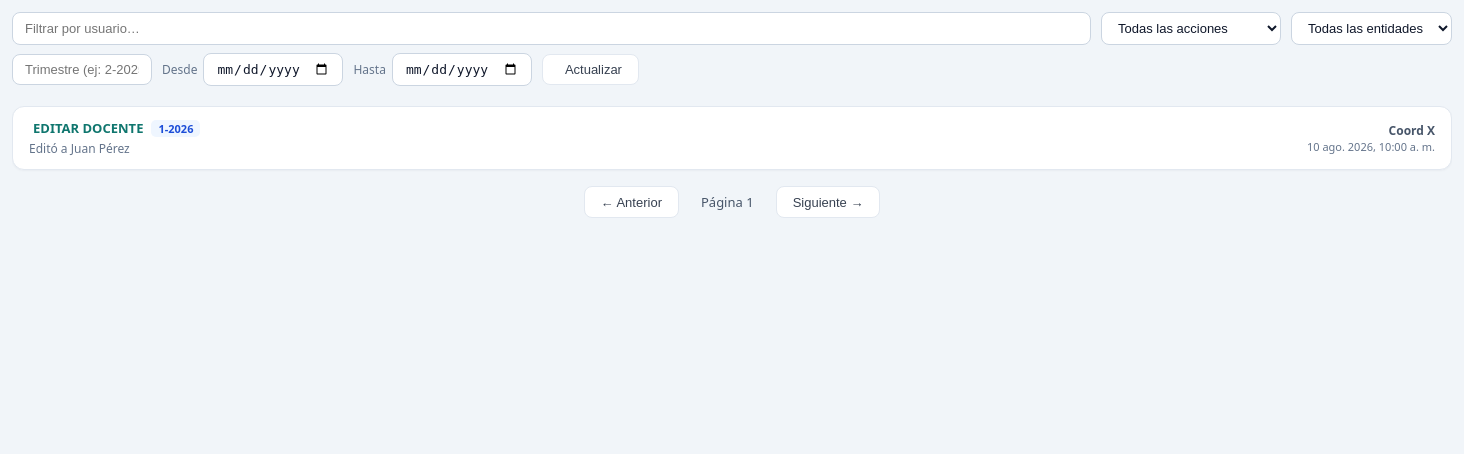
Test: TabAuditoria — expandir detalle (datos_antes / datos_despues) › un log con datos_antes/datos_despues los muestra al expandir, útil para reconstruir un incidente
The image size is (1464, 454).
Click the text "Editó a Juan Pérez": (79,148) [29,140,130,157]
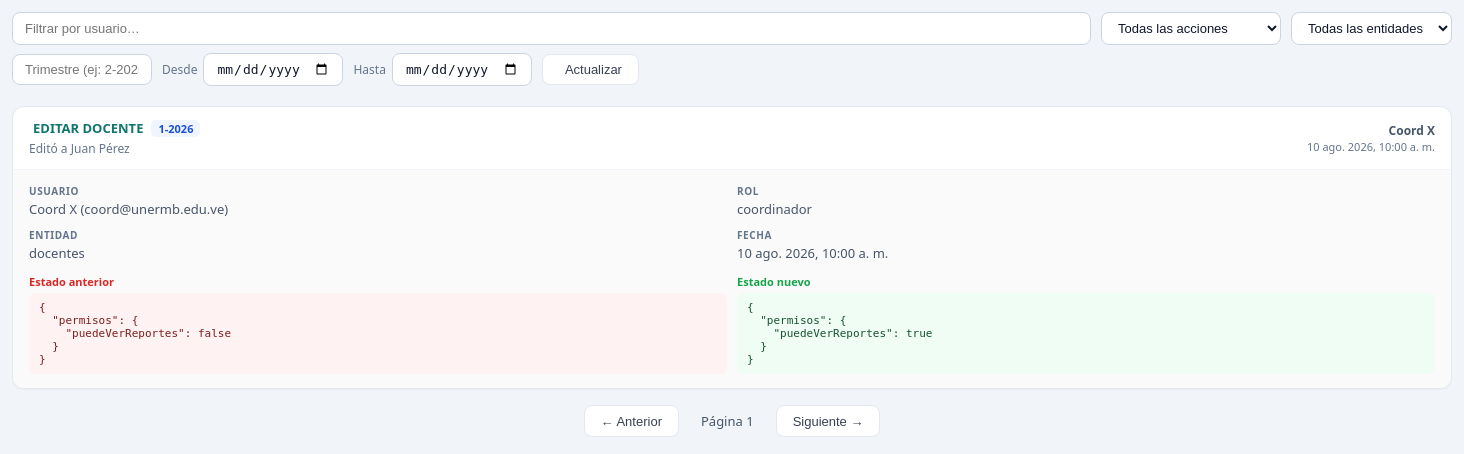
Check: the text "Estado anterior" is shown, box [29,274,114,289]
Check: the text "Estado nuevo" is shown, box [737,274,810,289]
Check: the text "{ \"permisos\": { \"puedeVerReportes\": false } }" is shown, box [29,293,727,374]
